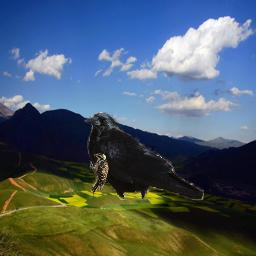Crow: (84, 112, 204, 200)
Woodpecker: (89, 152, 109, 196)
